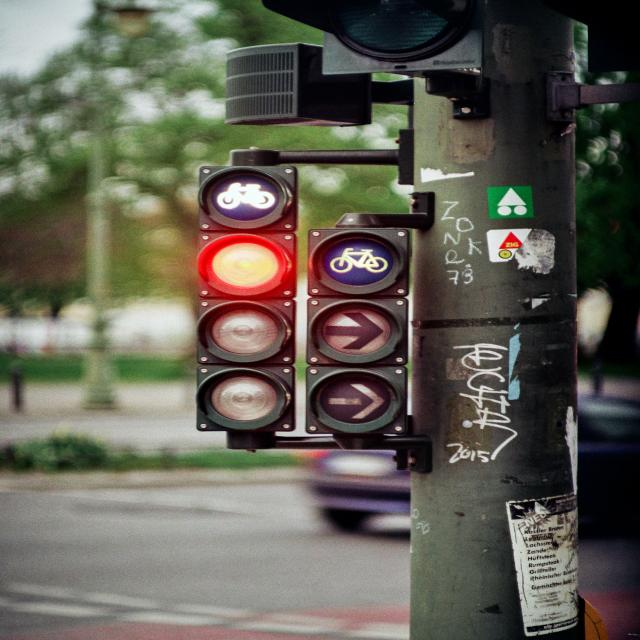Metal: (199, 1, 640, 640)
